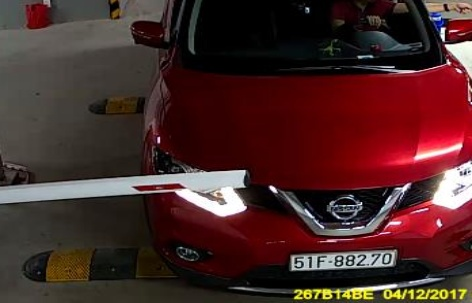plate: (288, 243, 400, 276)
